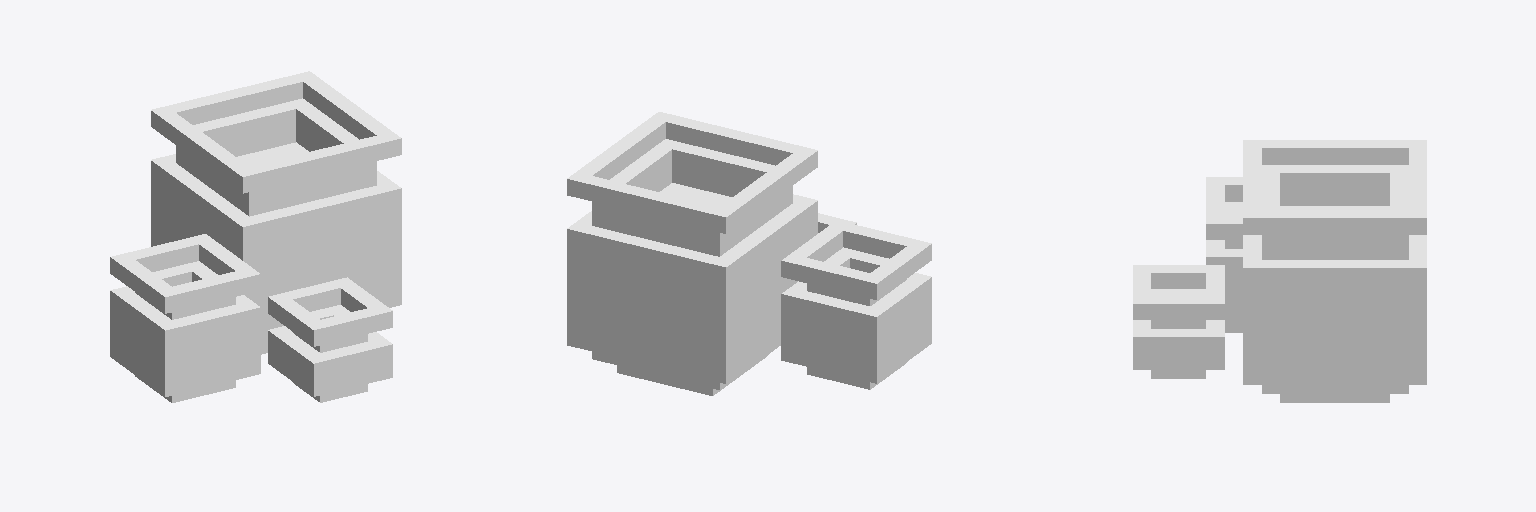
The model's file is deco_2.obj.
The picture shows the model from 3 angles: view 1: azimuth 30°, elevation 25°; view 2: azimuth 150°, elevation 25°; view 3: azimuth 270°, elevation 25°; orthographic projection.
Size of the model in its own units: 16 by 12 by 16.